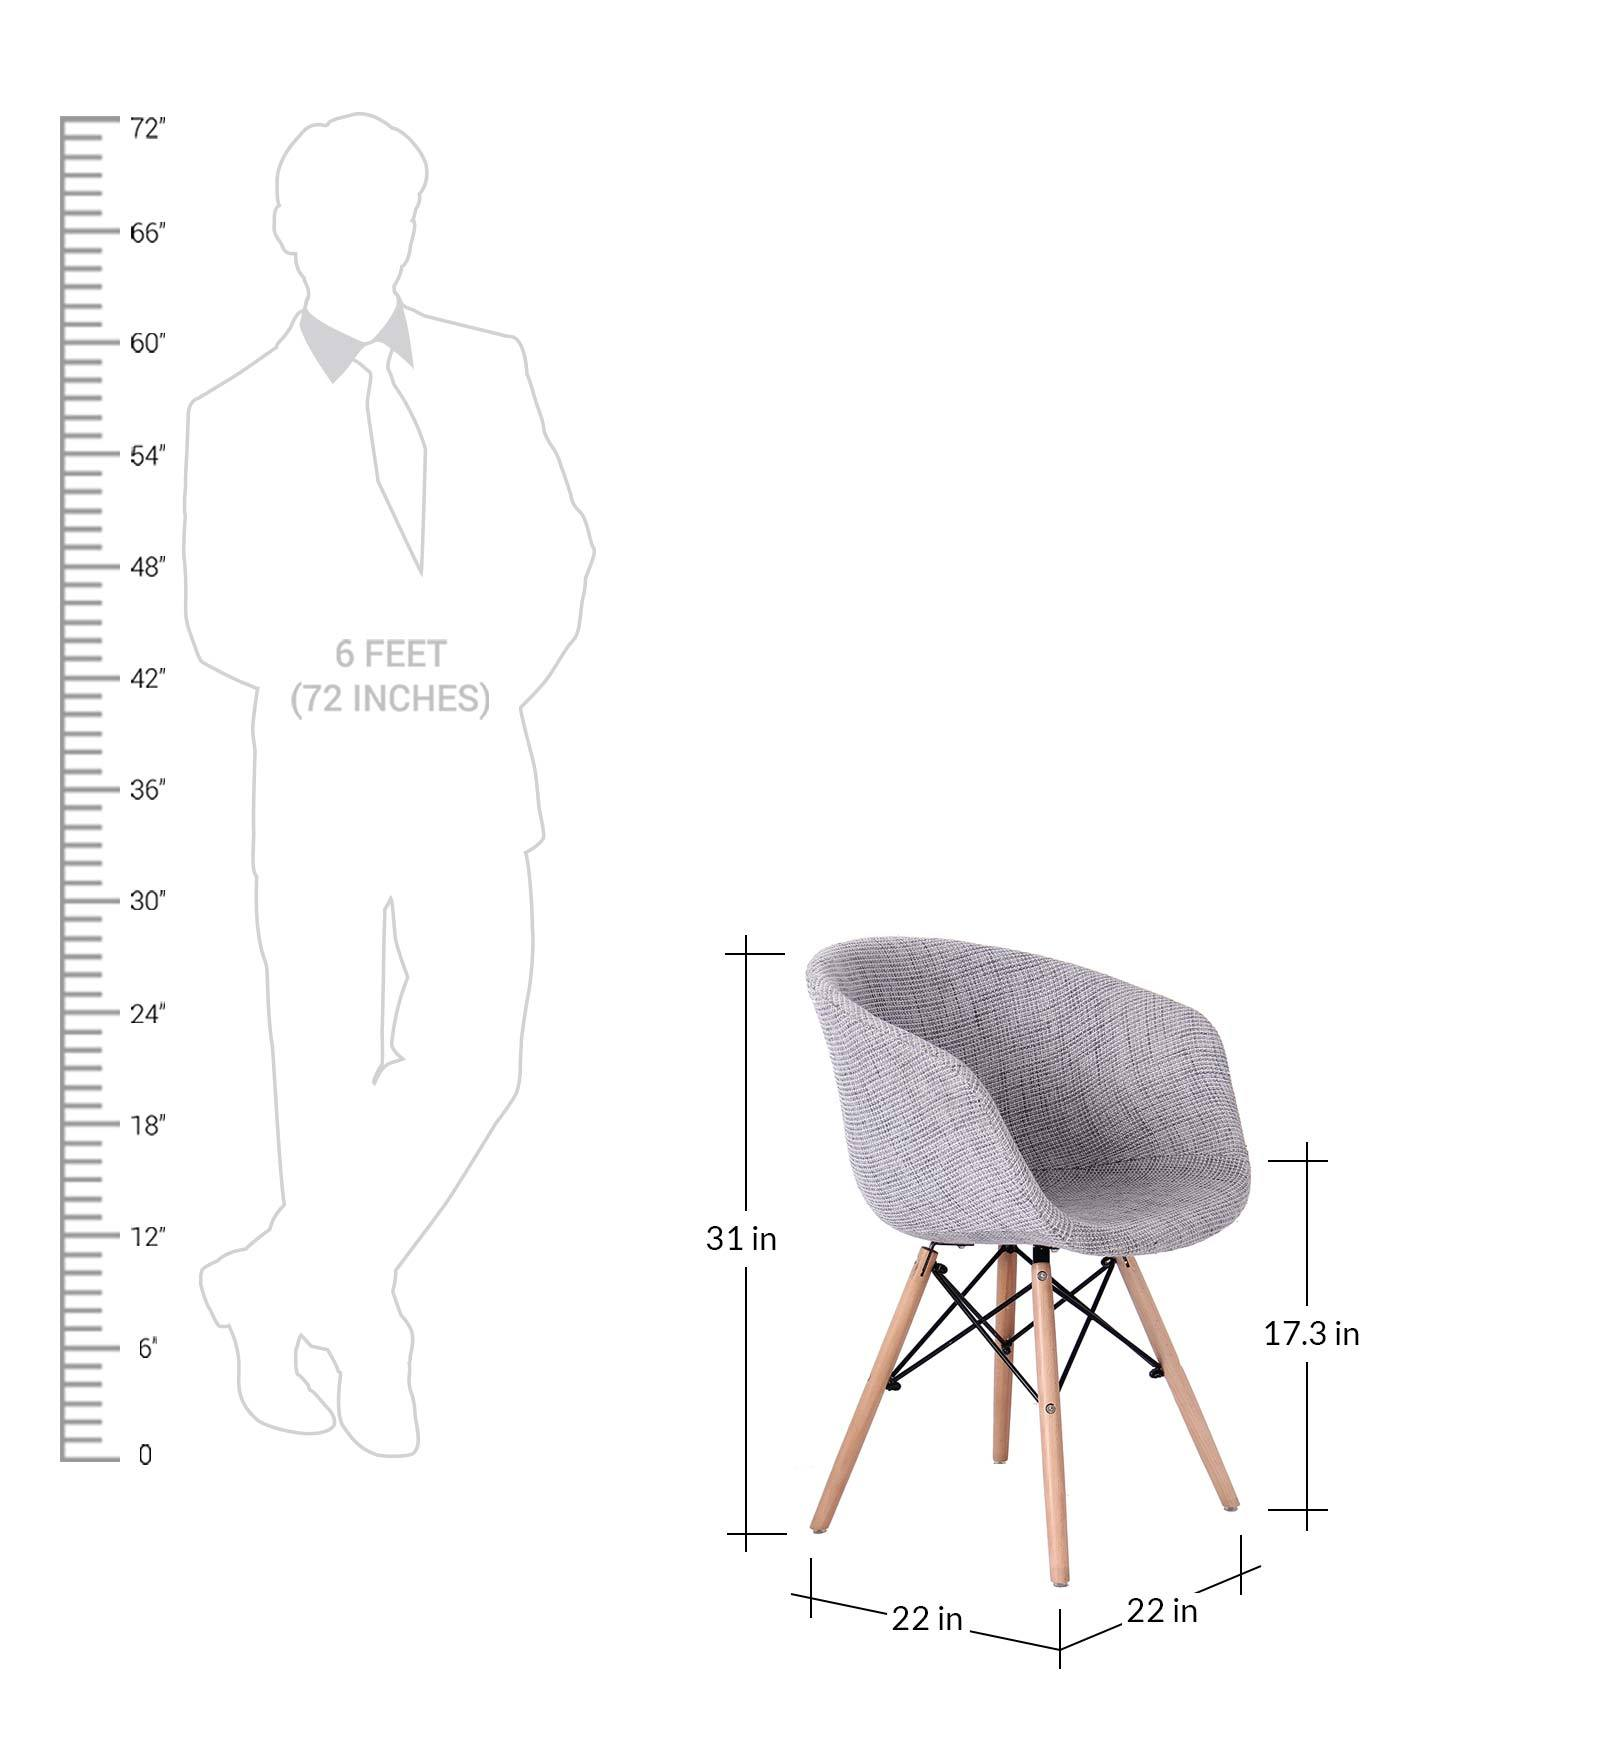Cory Fabric Chair in Light Grey Colour by Bohemiana: (775, 862, 1284, 1565)
